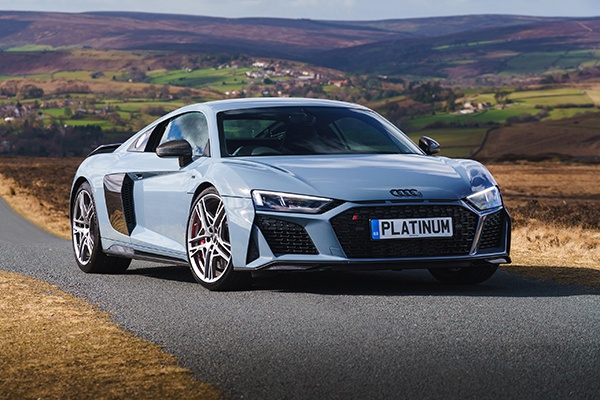licence: (363, 215, 458, 239)
